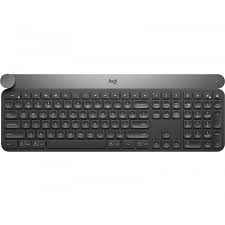keyboard: (0, 70, 221, 161)
